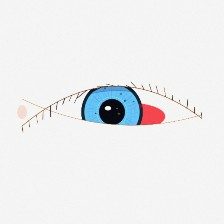hemorrhage_spot: (84, 79, 178, 154)
